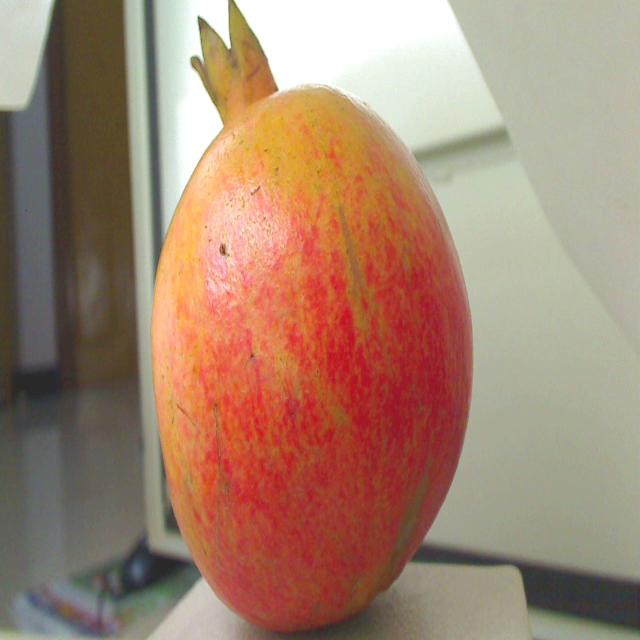pomegranate: (141, 0, 486, 640)
